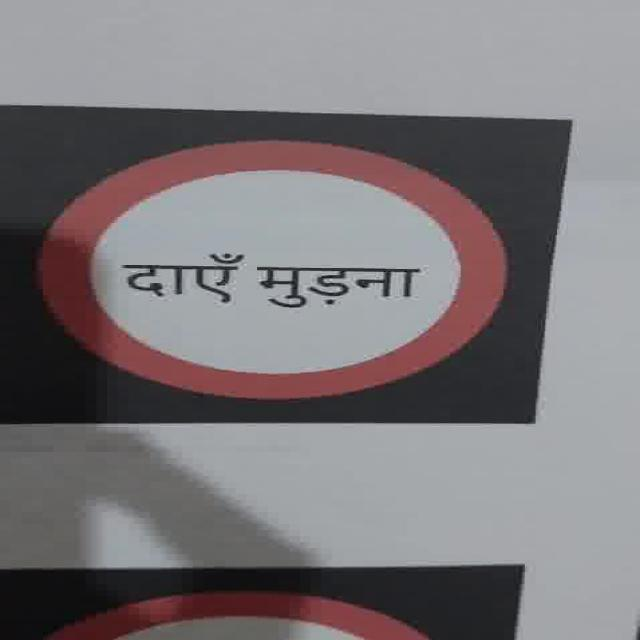hindiright: (38, 136, 516, 404), (40, 588, 434, 639), (118, 250, 424, 308)
